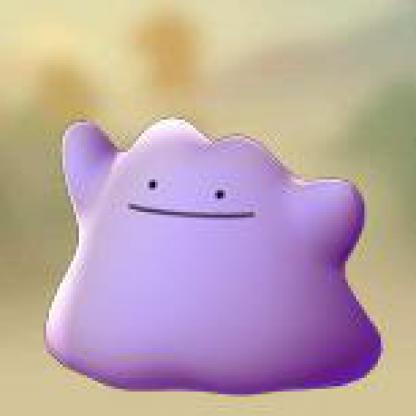Ditto: (1, 14, 415, 415)
